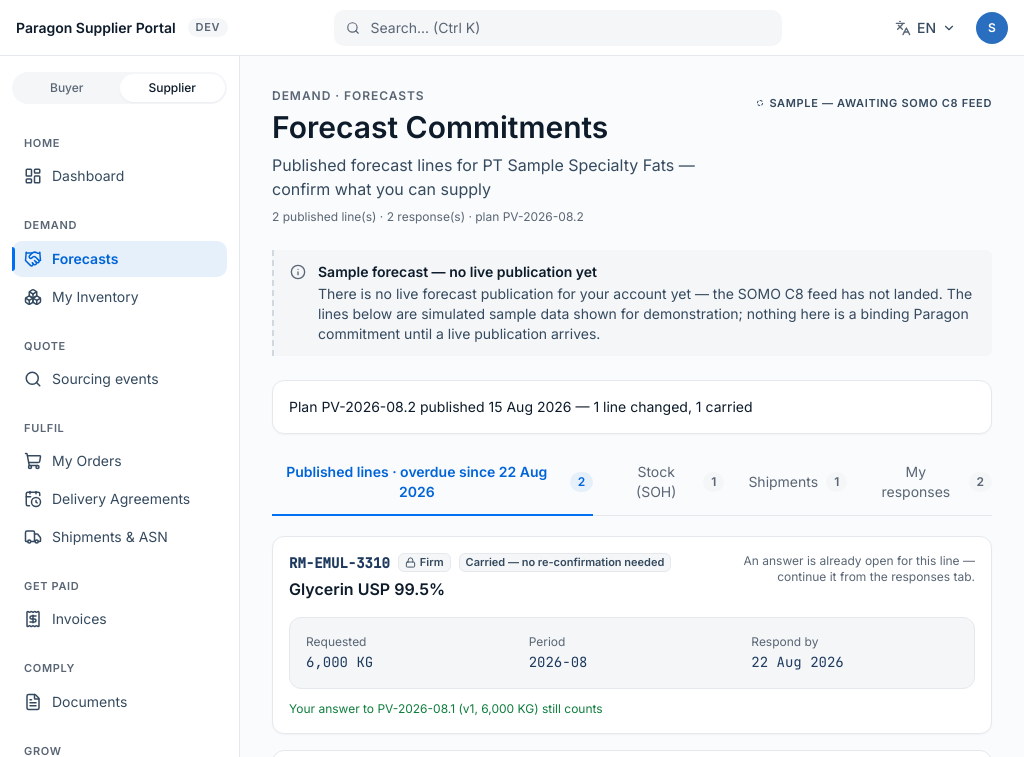
Test case: SupplierForecasts — own-facts-only (the load-bearing isolation) › My responses shows OWN records with STATUS only — no rank/score, no others
Click the tab "My responses 2".
click(932, 483)  # box [871,450,992,516]
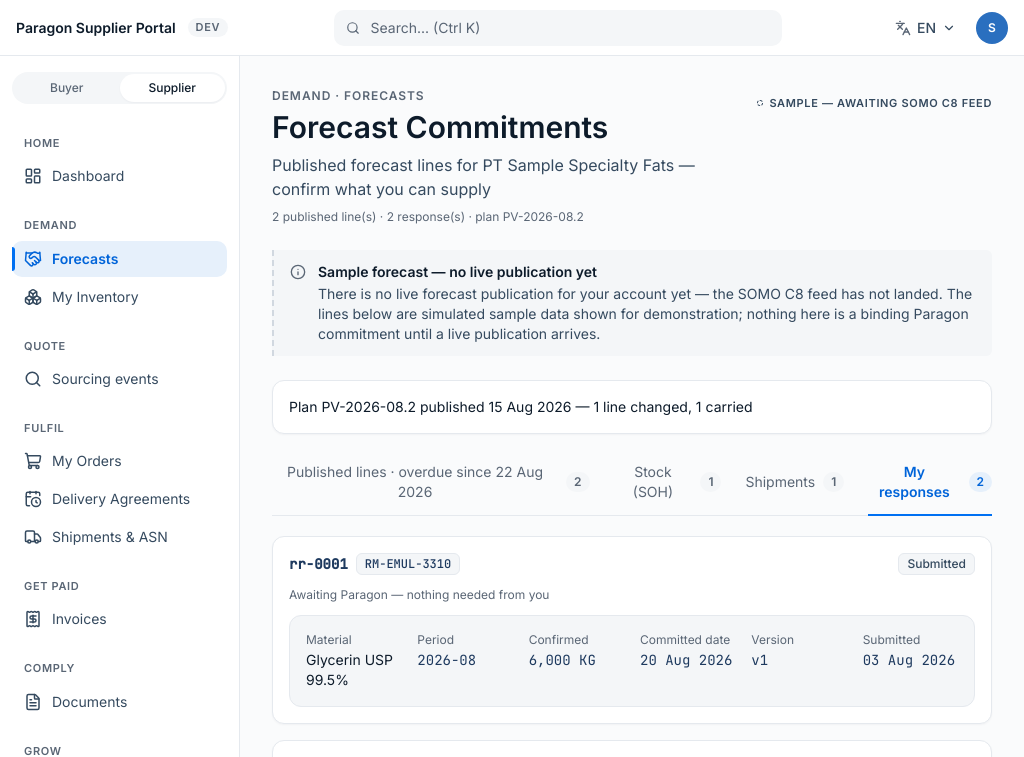
Check: the text "rr-0001" is shown, box [289,554,348,574]
